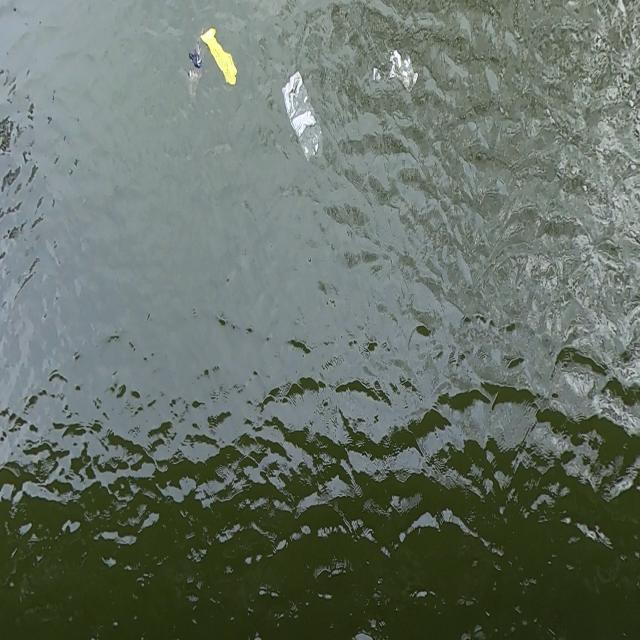Sac plastique: (281, 70, 323, 160), (202, 26, 238, 85), (374, 47, 419, 94), (189, 38, 200, 98)
